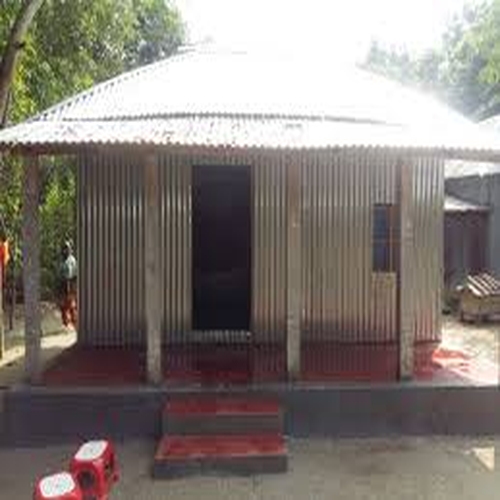Tin-shade House: (19, 46, 490, 371)
